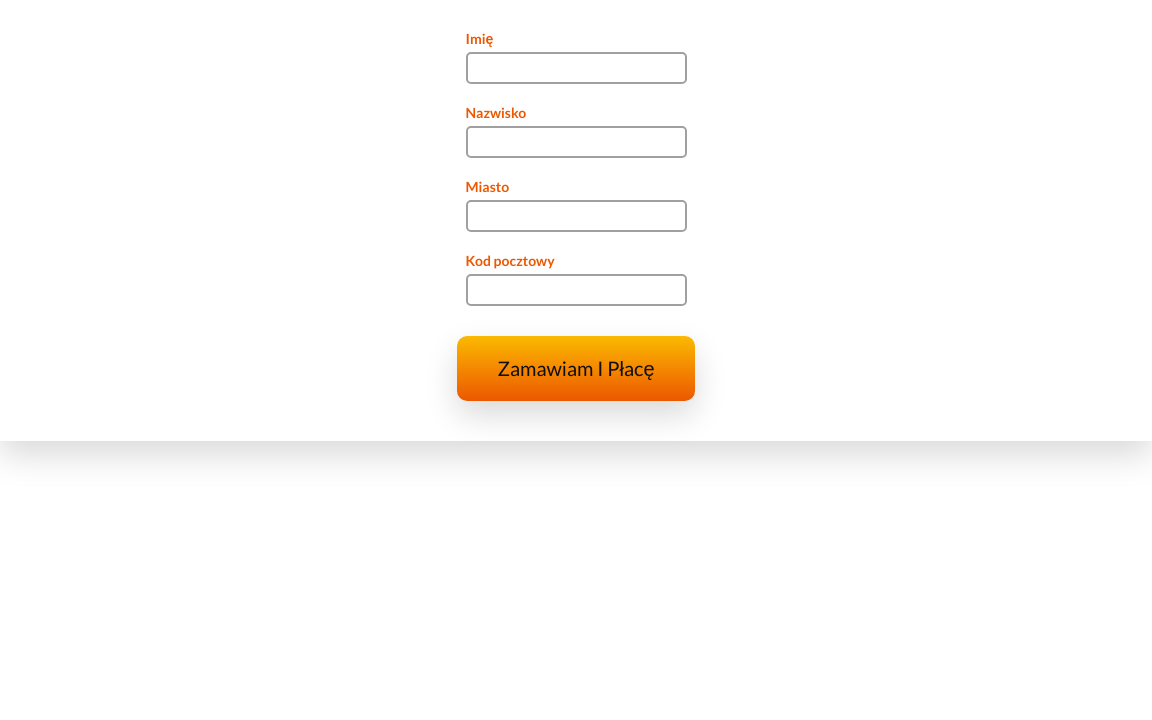
Test: AddressForm component › show validation error on invalid data
In the field named "imię": (576, 68) left=466, top=52, right=686, bottom=84, type "a"
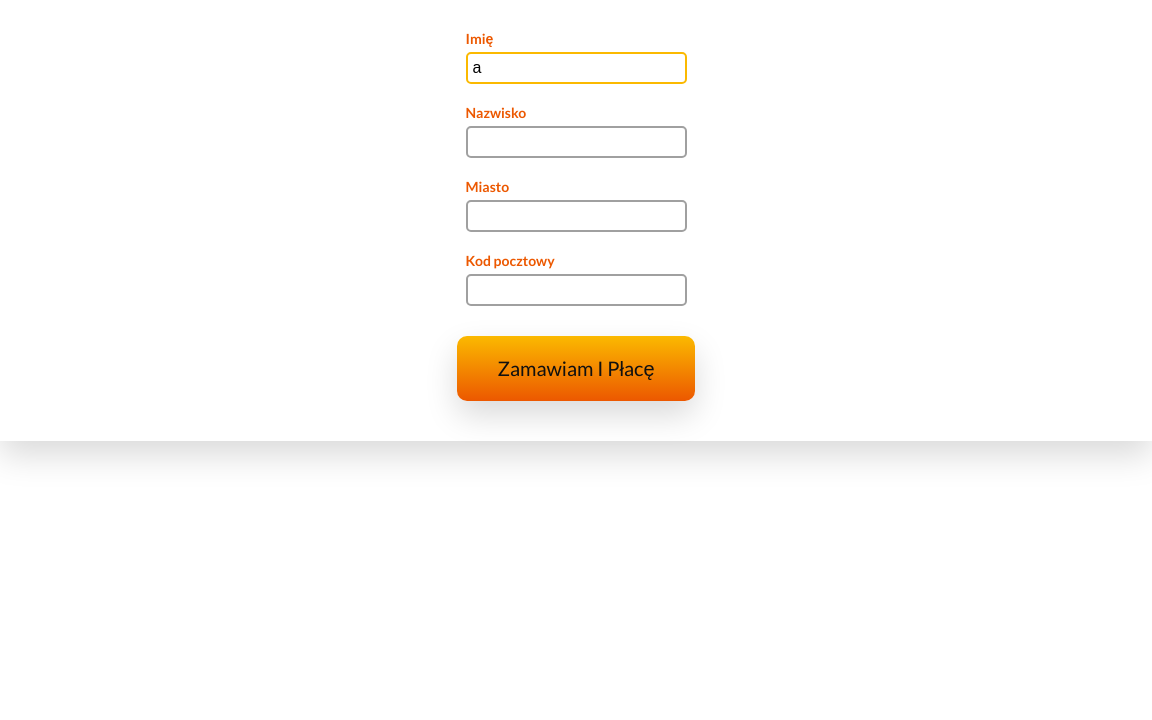
Leave the field named "nazwisko", box left=466, top=126, right=686, bottom=158
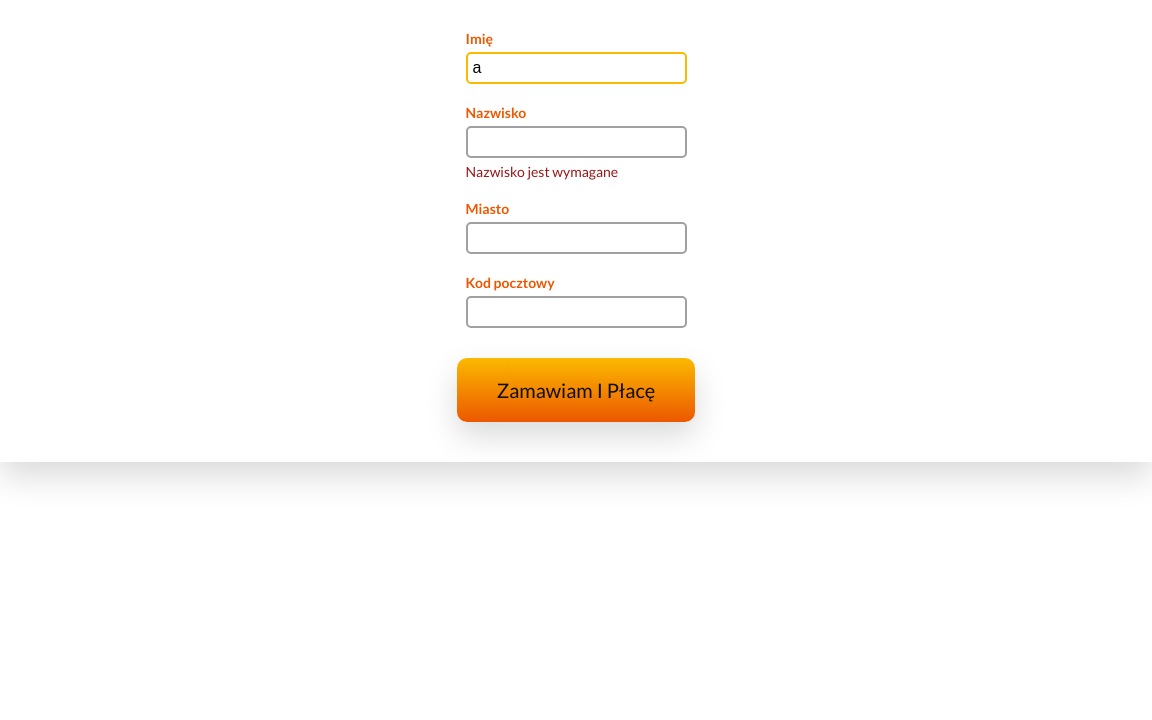
Leave the field named "imię", box left=466, top=52, right=686, bottom=84
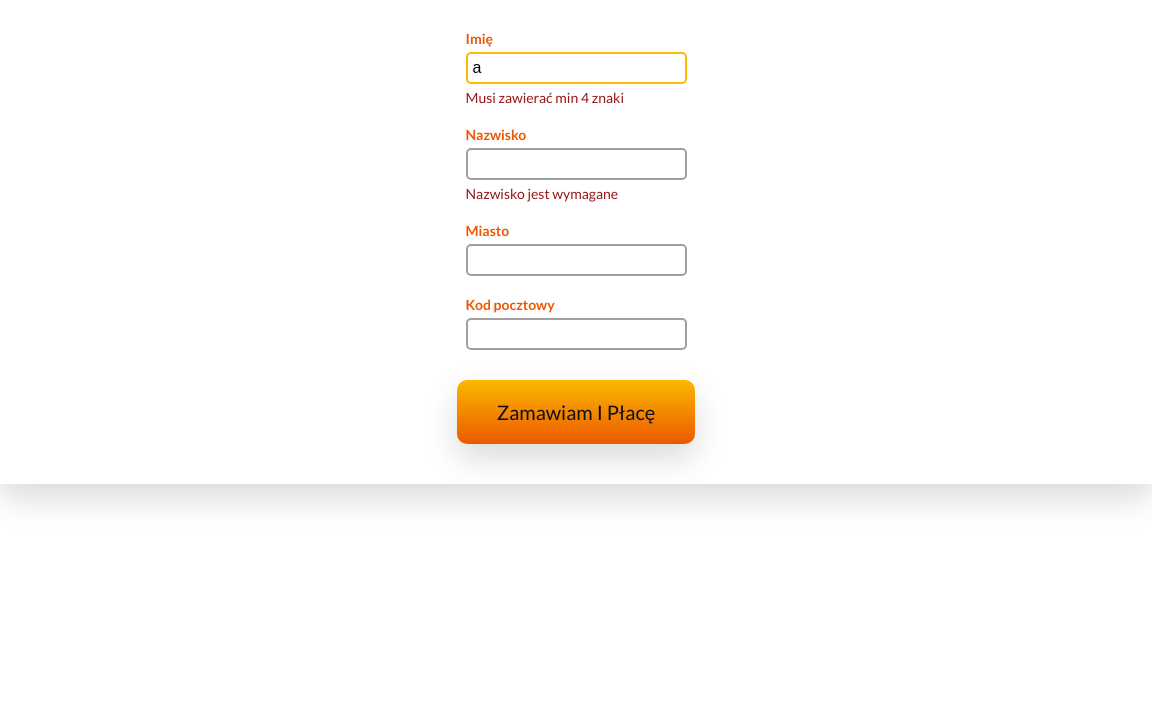
Check: the text "Nazwisko jest wymagane" is shown, box left=466, top=185, right=618, bottom=202
Check: the text "Musi zawierać min 4 znaki" is shown, box left=466, top=89, right=624, bottom=106
